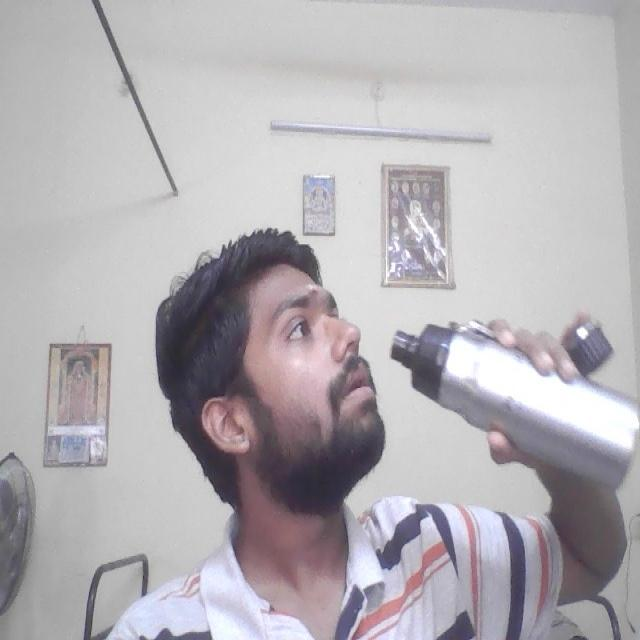Drinking: (386, 295, 640, 494)
